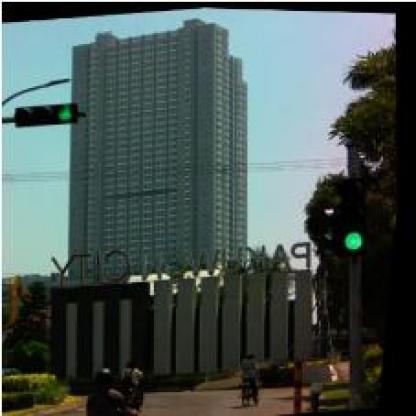green: (335, 170, 376, 255), (13, 99, 79, 128)
